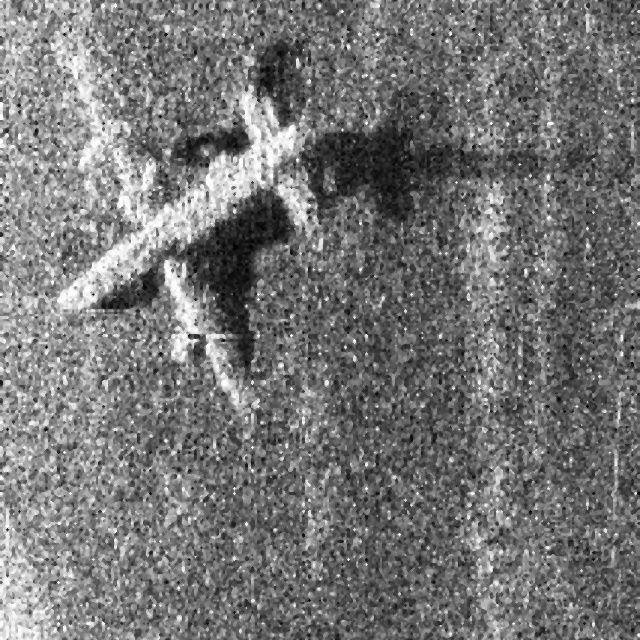Plane: (47, 14, 334, 418)
